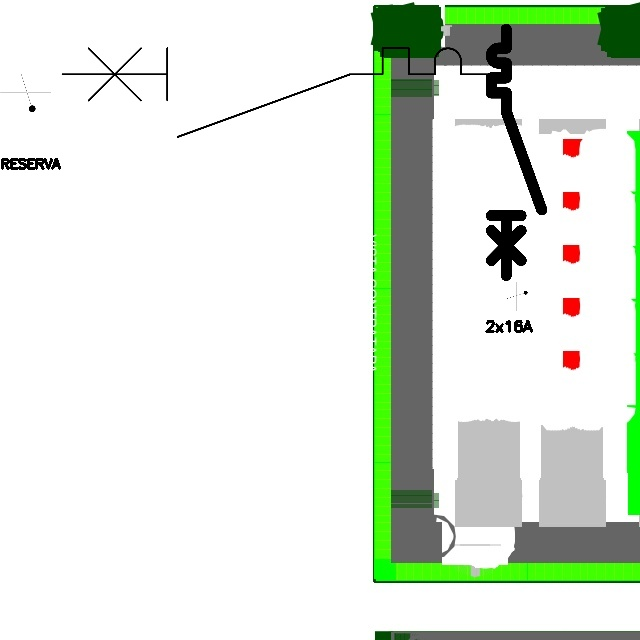interruptor_termomagnetico: (51, 37, 505, 148), (485, 23, 548, 282)
